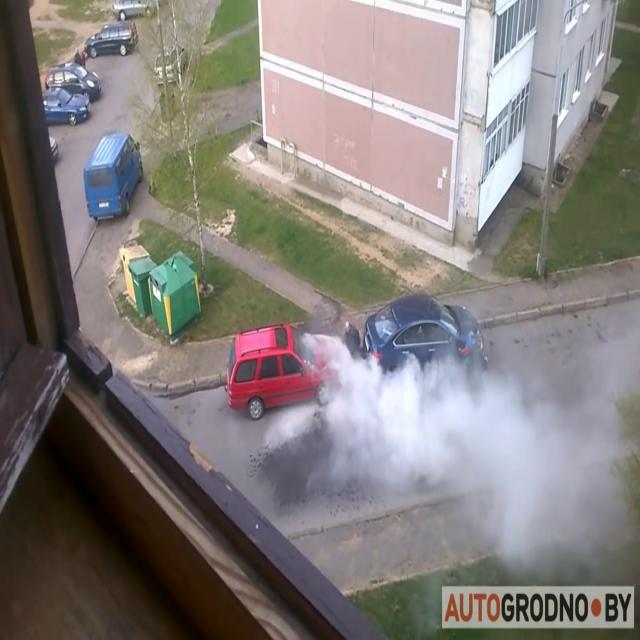Smoke: (288, 320, 639, 524)
